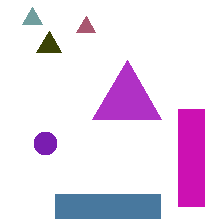circle: (34, 132, 56, 154)
rectangle: (178, 109, 204, 206), (55, 194, 160, 218)
triangle: (92, 60, 161, 119), (36, 31, 61, 52), (22, 7, 42, 24), (76, 16, 95, 32)
